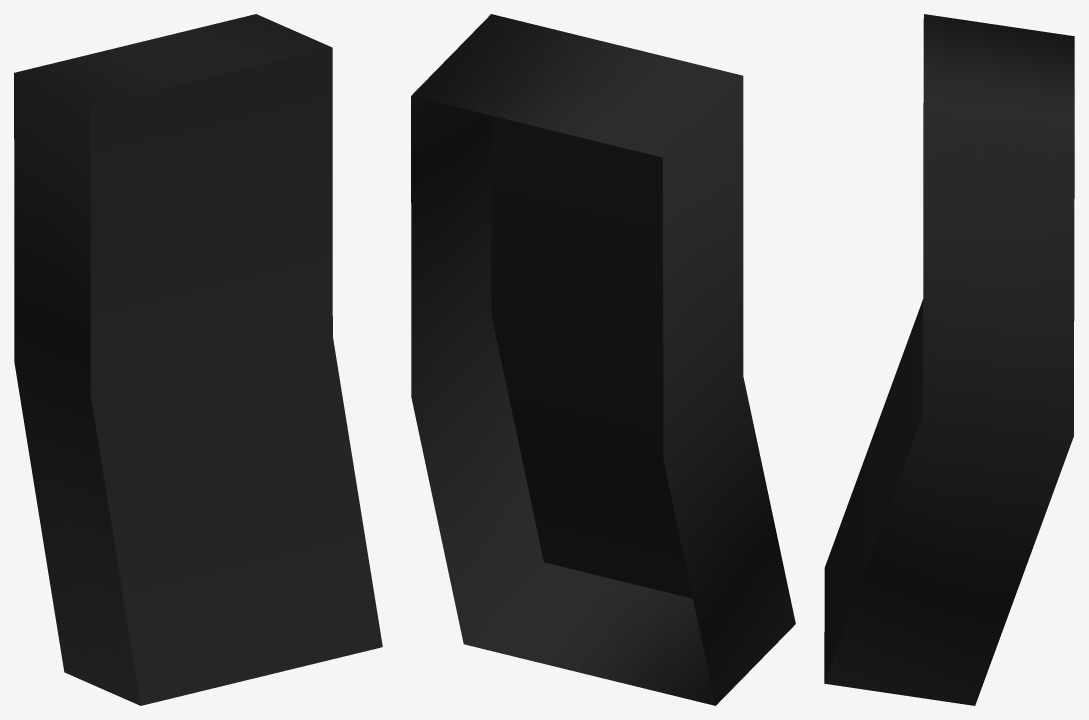
File: SpeakerSwitch.gltf
The picture shows the model from 3 angles, left to right: view 1: azimuth 30°, elevation 25°; view 2: azimuth 150°, elevation 25°; view 3: azimuth 270°, elevation 25°; orthographic projection. The views are drawn at different scales.
Parts seen in each view (by area): view 1: SpeakerSwitch; view 2: SpeakerSwitch; view 3: SpeakerSwitch.
Part boxes in pixels (x1,y1,x2,y2): SpeakerSwitch: [14, 14, 382, 705]; SpeakerSwitch: [411, 14, 795, 705]; SpeakerSwitch: [824, 14, 1074, 705].
Bounding box in the file's own units: 0.5286 × 1.22 × 0.4809.
1 material, 1 textured.
